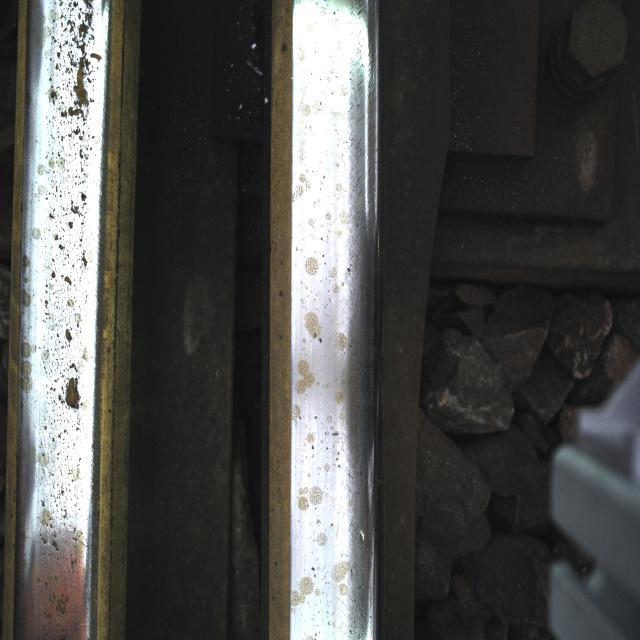scar: (292, 64, 368, 626), (42, 0, 102, 440)
